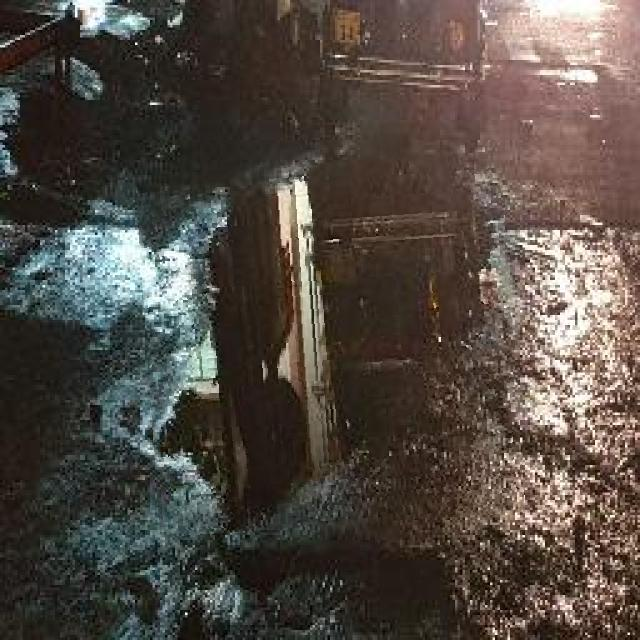puddle: (142, 158, 520, 532)
